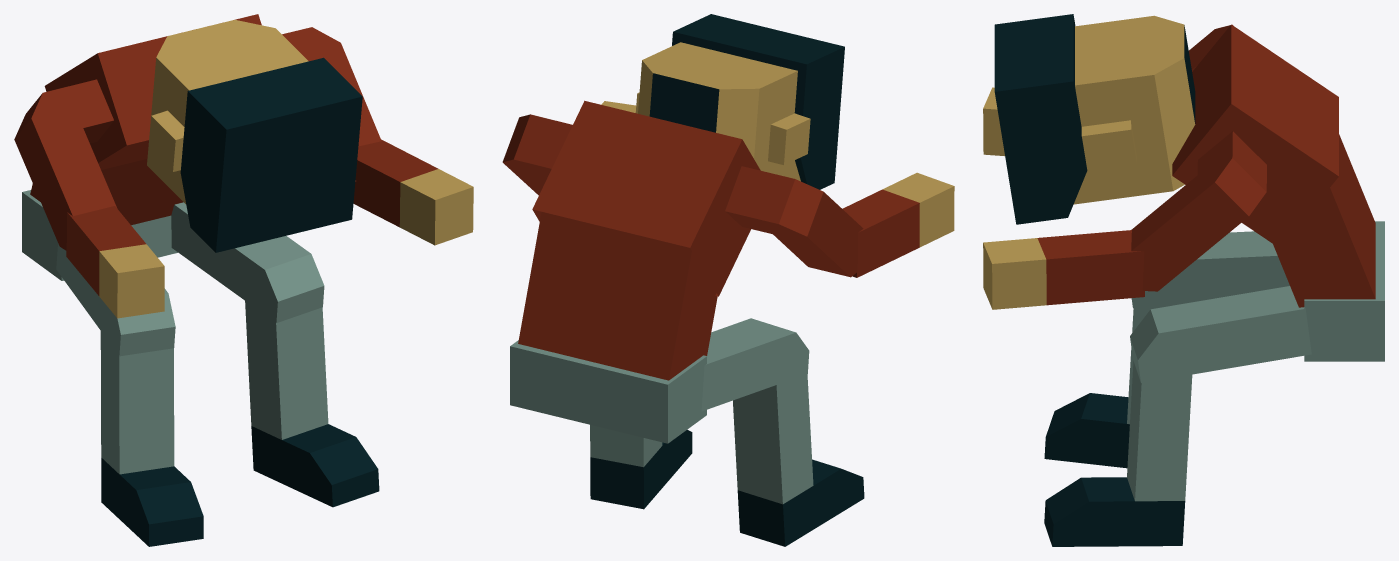
The model's file is sleepingGuy.fbx.
3 views of the same model, side by side, from view 1: azimuth 30°, elevation 25°; view 2: azimuth 150°, elevation 25°; view 3: azimuth 270°, elevation 25° (orthographic). The views are drawn at different scales.
Visible parts, largest first — view 1: head, l_upperarm, r_lowerleg, r_lowerleg1, l_forearm, r_upperleg1, l_forearm1, r_shoe, chest, r_shoe1, r_upperleg, stomach (+2 smaller); view 2: stomach, head, chest, butt, l_upperarm, r_lowerleg1, l_forearm1, r_upperleg, r_shoe1, r_shoe, l_upperarm1, r_lowerleg; view 3: head, chest, r_upperleg1, l_forearm, l_upperarm1, stomach, r_shoe, r_lowerleg, r_upperleg, butt, r_shoe1, l_forearm1 (+2 smaller).
Boxes of the visible parts, left/top/right/bottom form: head: left=147, top=20, right=362, bottom=252; l_upperarm: left=14, top=79, right=117, bottom=250; r_lowerleg: left=245, top=296, right=328, bottom=439; r_lowerleg1: left=100, top=326, right=174, bottom=474; l_forearm: left=353, top=139, right=473, bottom=245; r_upperleg1: left=171, top=202, right=324, bottom=322; l_forearm1: left=66, top=206, right=164, bottom=318; r_shoe: left=251, top=424, right=379, bottom=507; chest: left=44, top=14, right=261, bottom=169; r_shoe1: left=101, top=458, right=203, bottom=546; r_upperleg: left=56, top=243, right=175, bottom=356; stomach: left=30, top=159, right=183, bottom=225; stomach: left=518, top=212, right=717, bottom=380; head: left=635, top=14, right=844, bottom=189; chest: left=532, top=100, right=760, bottom=296; butt: left=510, top=340, right=706, bottom=443; l_upperarm: left=725, top=166, right=863, bottom=277; r_lowerleg1: left=733, top=373, right=813, bottom=504; l_forearm1: left=842, top=172, right=954, bottom=277; r_upperleg: left=701, top=318, right=809, bottom=411; r_shoe1: left=737, top=459, right=864, bottom=546; r_shoe: left=590, top=429, right=692, bottom=509; l_upperarm1: left=502, top=114, right=572, bottom=195; r_lowerleg: left=590, top=425, right=662, bottom=467; head: left=994, top=14, right=1195, bottom=224; chest: left=1172, top=24, right=1338, bottom=248; r_upperleg1: left=1130, top=286, right=1311, bottom=382; l_forearm: left=983, top=230, right=1144, bottom=309; l_upperarm1: left=1131, top=131, right=1266, bottom=291; stomach: left=1273, top=134, right=1375, bottom=307; r_shoe: left=1044, top=477, right=1185, bottom=546; r_lowerleg: left=1127, top=361, right=1192, bottom=501; r_upperleg: left=1131, top=231, right=1289, bottom=308; butt: left=1304, top=221, right=1384, bottom=361; r_shoe1: left=1044, top=393, right=1129, bottom=468; l_forearm1: left=983, top=87, right=1004, bottom=156.
Size of the model in its own units: 273 by 330 by 263.
